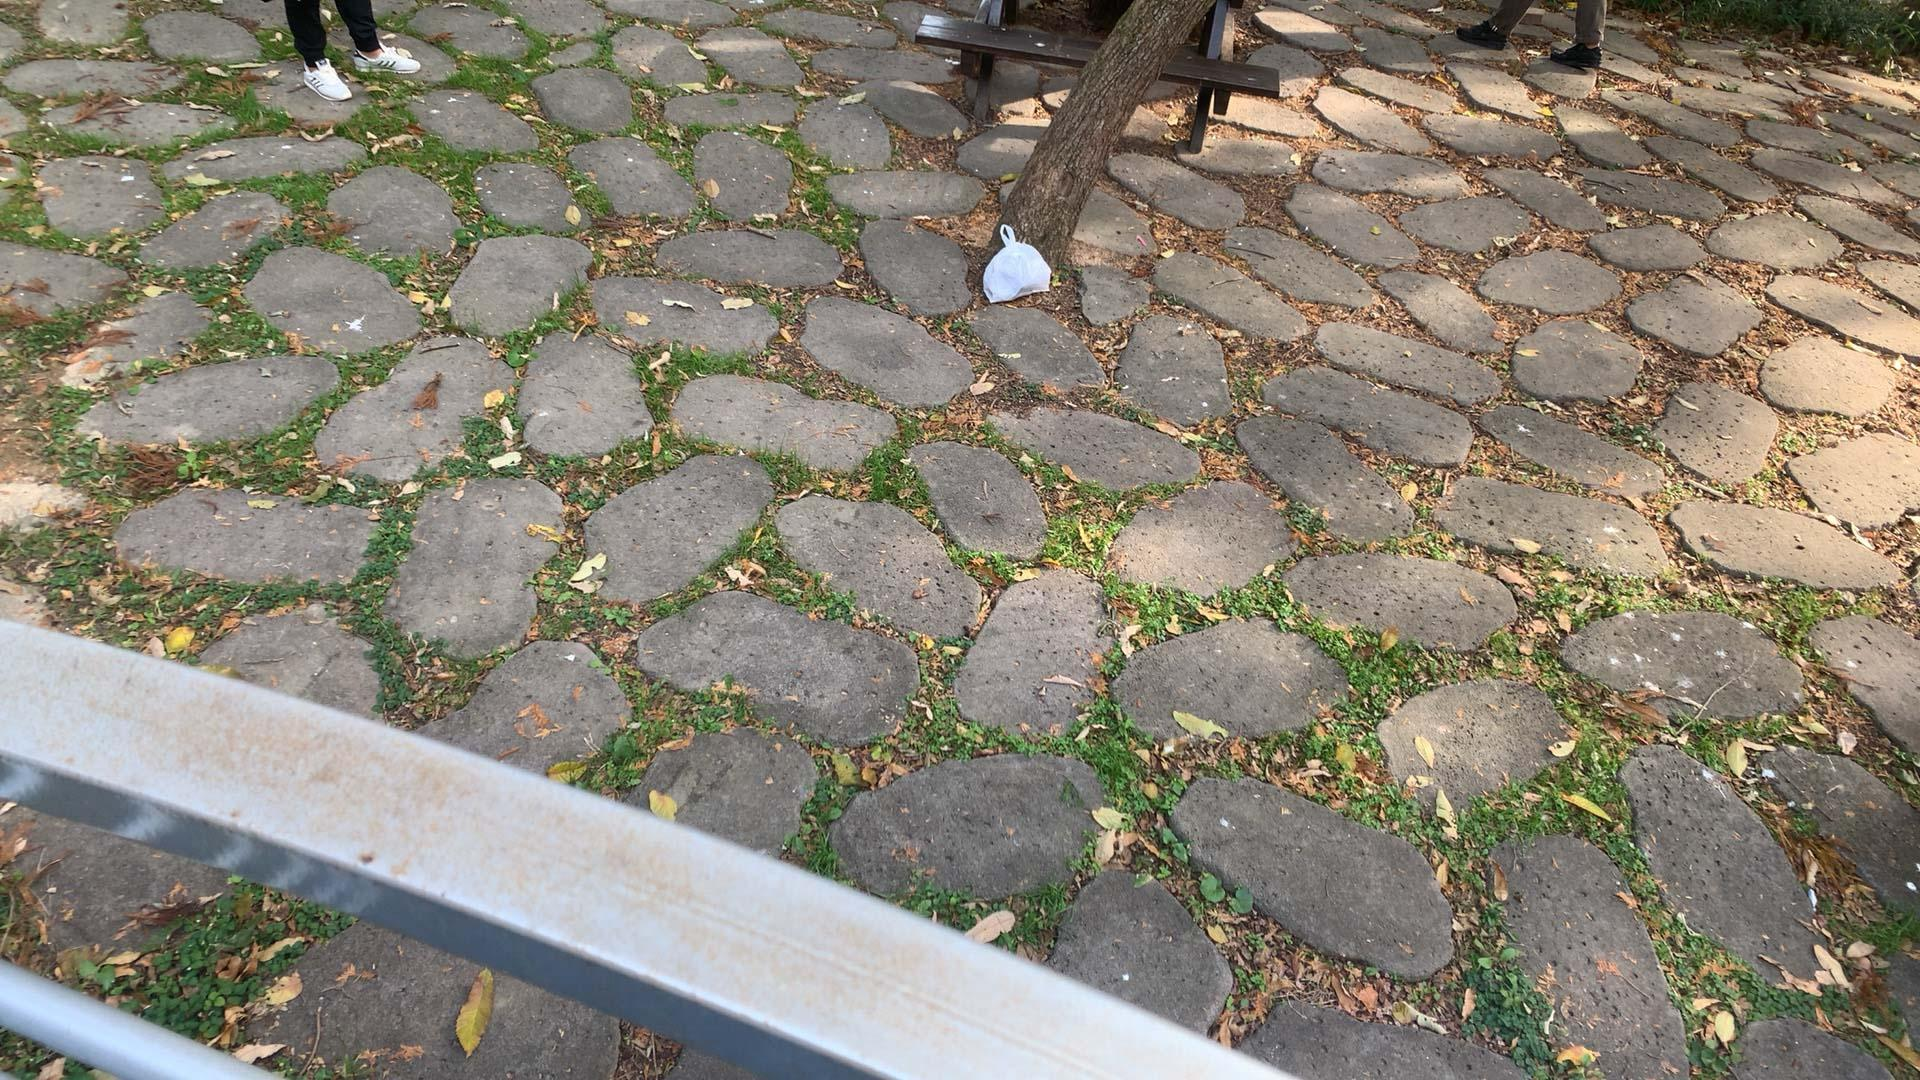white_bag: (975, 216, 1063, 309)
